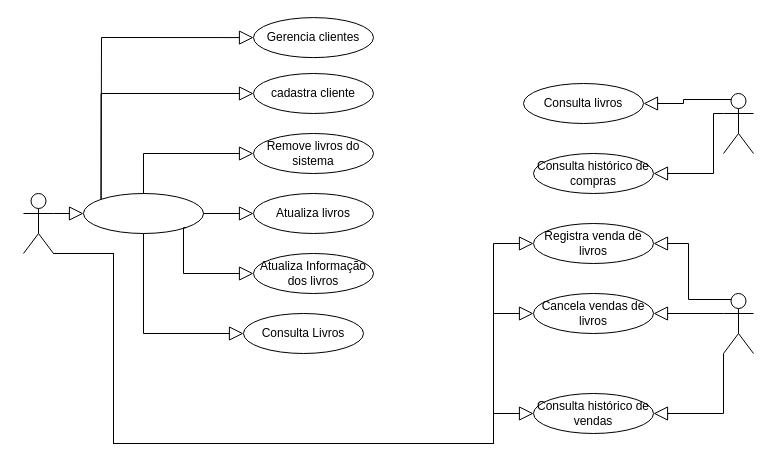
Some shapes in this 781 by 475 pixel diagram are drawn without their labels. The centre of each missing label's shape, as x and y in pixels:
Cliente: point (738, 123)
Gerenciar sistema: point (143, 213)
Gerente: point (38, 223)
Vendedor: point (738, 323)
